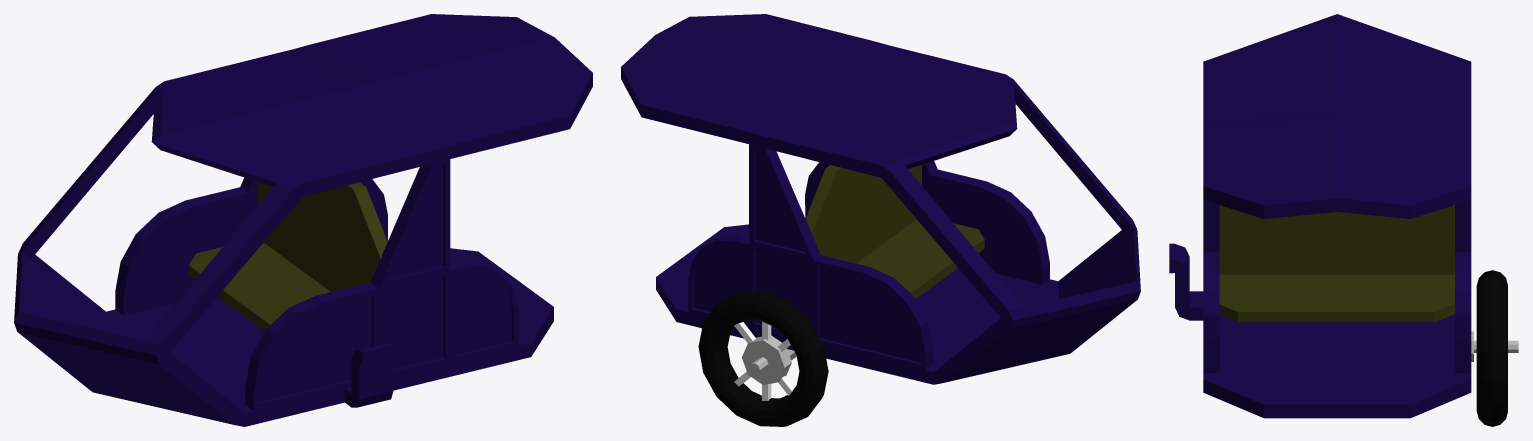
Rendered from Sidecar_2.fbx.
3 renders of one model, left to right at view 1: azimuth 30°, elevation 25°; view 2: azimuth 150°, elevation 25°; view 3: azimuth 270°, elevation 25°, orthographic. The views are drawn at different scales.
Visible parts, largest first — view 1: Cube.011; view 2: Cube.011; view 3: Cube.011.
Part boxes in pixels (x1,y1,x2,y2): Cube.011: (14,14,592,426); Cube.011: (621,14,1140,426); Cube.011: (1169,14,1518,426).
Size of the model in its own units: 269 by 155 by 156.
